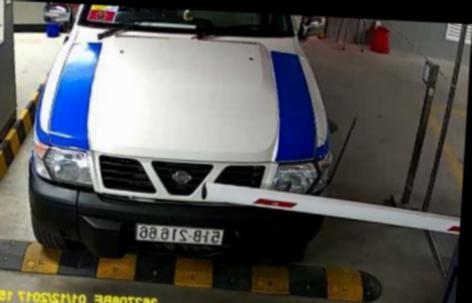License_Plate: (125, 218, 225, 253)
